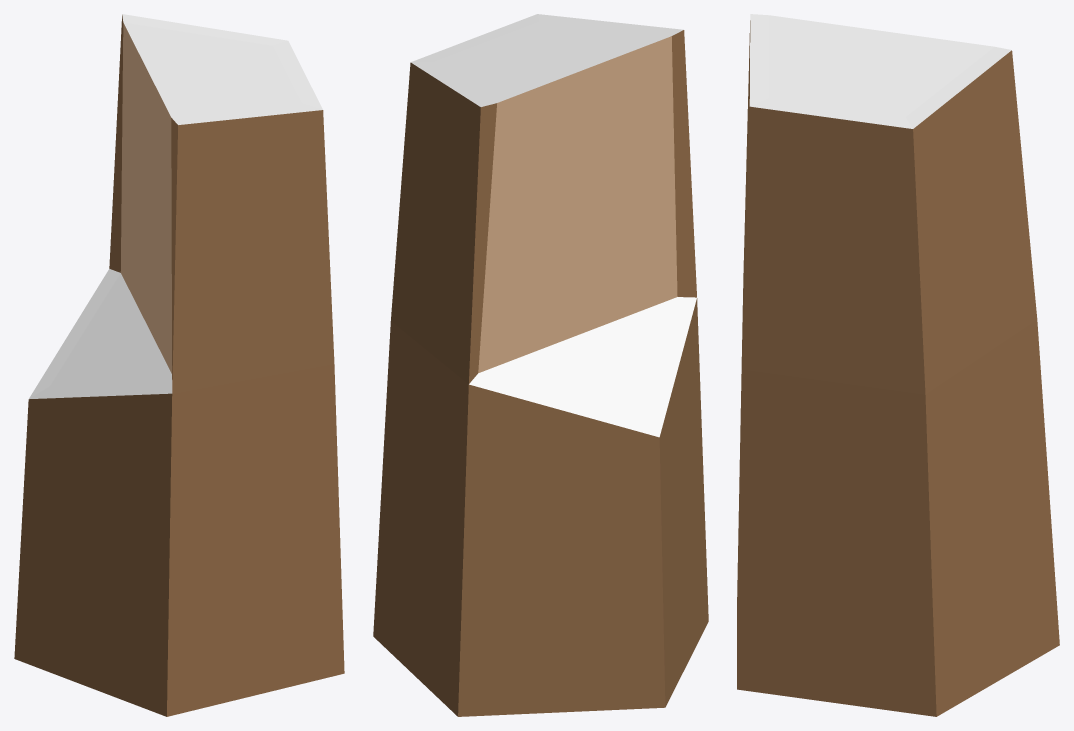
Rendered from Pine_Stump_Snow_02.fbx.
3 views of the same model, side by side, from view 1: azimuth 30°, elevation 25°; view 2: azimuth 150°, elevation 25°; view 3: azimuth 270°, elevation 25° (orthographic). The views are drawn at different scales.
Visible parts, largest first — view 1: Pine_Stump_Snow_02; view 2: Pine_Stump_Snow_02; view 3: Pine_Stump_Snow_02.
Boxes of the visible parts, x1=… form: Pine_Stump_Snow_02: x1=14, y1=14, x2=344, y2=716; Pine_Stump_Snow_02: x1=373, y1=14, x2=708, y2=716; Pine_Stump_Snow_02: x1=737, y1=14, x2=1059, y2=716.
Size of the model in its own units: 72.39 by 140 by 68.85.
